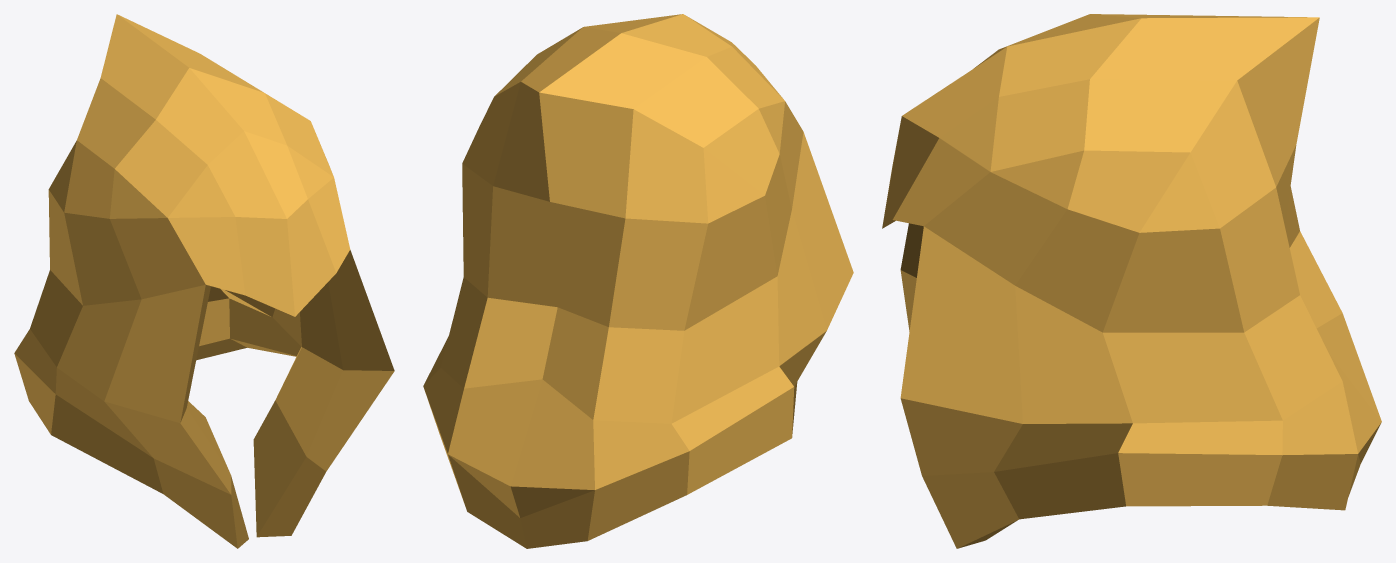
The model's file is Hood_F_AD_008.fbx.
The picture shows the model from 3 angles, left to right: view 1: azimuth 30°, elevation 25°; view 2: azimuth 150°, elevation 25°; view 3: azimuth 270°, elevation 25°; orthographic projection. The views are drawn at different scales.
Visible parts, largest first — view 1: Hood_F_AD_008; view 2: Hood_F_AD_008; view 3: Hood_F_AD_008.
Boxes of the visible parts, bbox=[...] form: Hood_F_AD_008: bbox=[14, 14, 394, 548]; Hood_F_AD_008: bbox=[423, 14, 853, 548]; Hood_F_AD_008: bbox=[882, 14, 1381, 548].
Size of the model in its own units: 0.3006 by 0.4217 by 0.3667.
